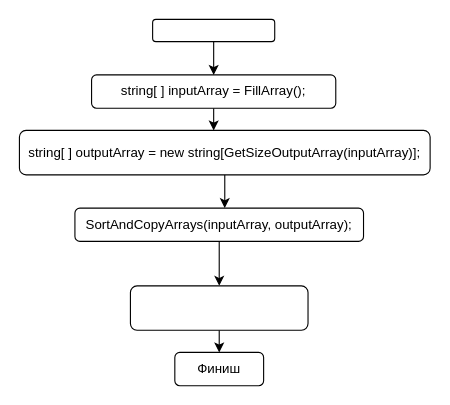
Image size: 450x405. Some labels were removed from this diagram. Here are the shapes that lost their labels. From the top down, the centre of each, then its label:
At pixel 213 30: "Старт".
At pixel 218 307: "PrintArray(inputArray); PrintArray(outputArray);".
